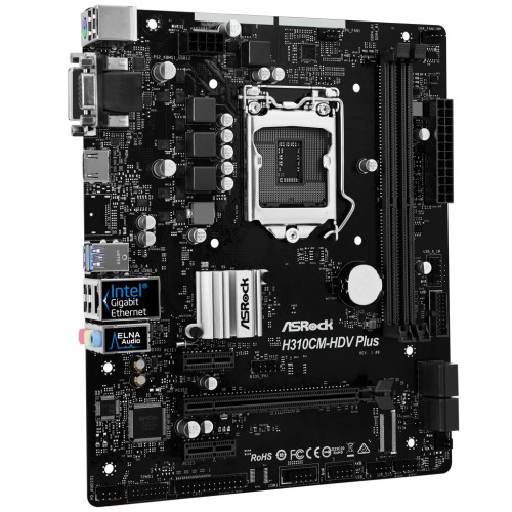CPU: (242, 83, 345, 239)
GPU: (177, 379, 395, 416)
MOTHERBOARD: (66, 5, 460, 506)
RAM: (377, 41, 433, 344)
